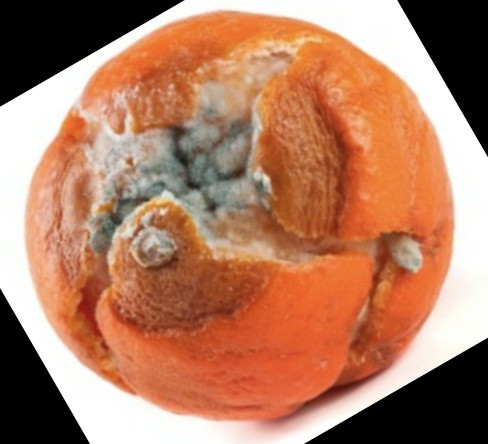rotten_orange: (26, 9, 455, 419)
